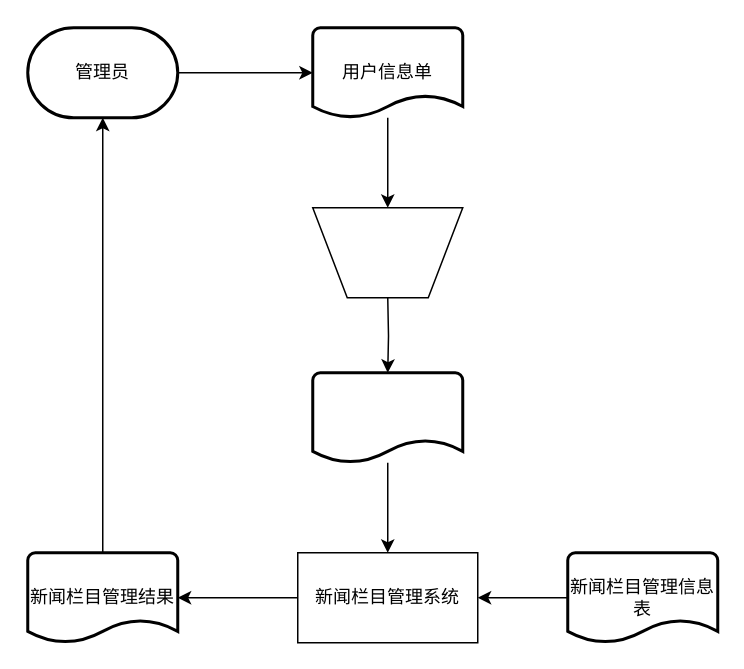
The diagram is 744 pixels wide and 669 high, and some of its shapes have lost their labels. The shapes that lost their labels are listed below. From the top down, each one's box as (x1, y1, x2, y2) in pixels, then its label:
(311, 206, 463, 298): 登录
(310, 370, 464, 464): 新闻栏目管理 请求单
